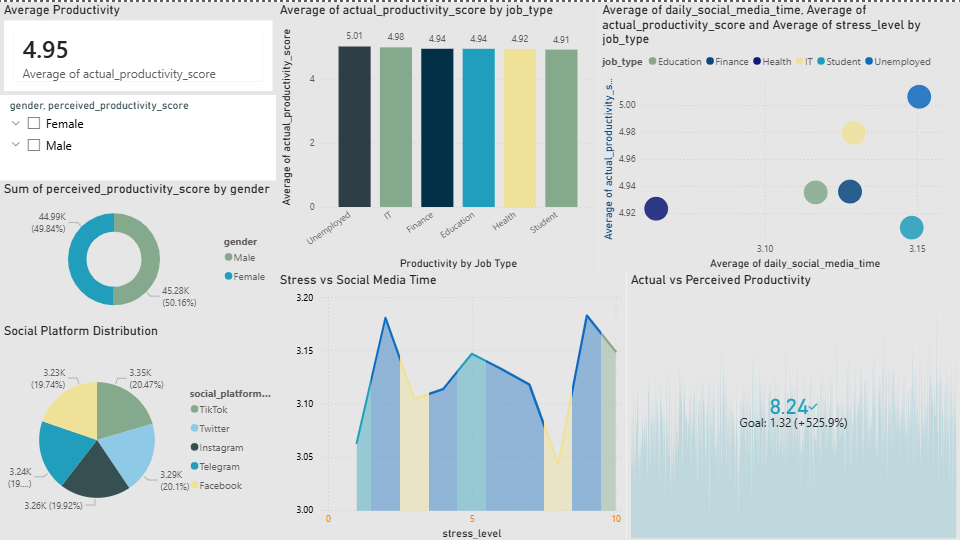

The page's visual inventory and layout, read from the dashboard file:
{"tool":"powerbi","page":{"name":"Overview","canvas":[1280,720],"ordinal":0},"visuals":[{"type":"actionButton","box":[0,0,100,40],"z":0},{"type":"slicer","fields":{"Values":["social_media_vs_productivity.gender","social_media_vs_productivity.perceived_productivity_score"]},"box":[203.3,50,165,131.7],"z":2000},{"type":"cardVisual","title":"Average Productivity","fields":{"Data":["Avg(social_media_vs_productivity.actual_productivity_score)"]},"box":[0,50,203.3,131.7],"z":3000},{"type":"clusteredColumnChart","fields":{"Y":["Avg(social_media_vs_productivity.actual_productivity_score)"],"Category":["social_media_vs_productivity.job_type"]},"box":[368.5,39.7,417.6,283.5],"z":4000},{"type":"pieChart","title":"Social Platform Distribution","fields":{"Category":["social_media_vs_productivity.social_platform_preference"],"Y":["CountNonNull(social_media_vs_productivity.social_platform_preference)"]},"box":[0,450,367.5,270],"z":5000},{"type":"lineChart","title":"Stress vs Social Media Time","fields":{"Y":["Avg(social_media_vs_productivity.daily_social_media_time)"],"Category":["social_media_vs_productivity.stress_level"]},"box":[367.5,360,467.5,360],"z":6000},{"type":"scatterChart","fields":{"X":["Avg(social_media_vs_productivity.daily_social_media_time)"],"Y":["Avg(social_media_vs_productivity.actual_productivity_score)"],"Size":["Avg(social_media_vs_productivity.stress_level)"],"Series":["social_media_vs_productivity.job_type"]},"box":[797.5,39.7,481.9,319.4],"z":7000},{"type":"kpi","title":"Actual vs Perceived Productivity","fields":{"TrendLine":["social_media_vs_productivity.perceived_productivity_score"],"Indicator":["Avg(social_media_vs_productivity.actual_productivity_score)"],"Goal":["Sum(social_media_vs_productivity.daily_social_media_time)"]},"box":[835,387.5,445,332.5],"z":8000},{"type":"donutChart","fields":{"Category":["social_media_vs_productivity.gender"],"Y":["Sum(social_media_vs_productivity.perceived_productivity_score)"]},"box":[0,238.3,368.3,190],"z":9000}]}

Visuals, with their boxes in screenshot pixels (x1, y1, x2, y2), scaled from the page's 1280x720 canvas onto the 960x540 screenshot:
actionButton: (left=0, top=0, right=75, bottom=30)
slicer - social_media_vs_productivity.gender x social_media_vs_productivity.perceived_productivity_score: (left=152, top=38, right=276, bottom=136)
"Average Productivity" cardVisual: (left=0, top=38, right=152, bottom=136)
clusteredColumnChart - Avg(social_media_vs_productivity.actual_productivity_score) x social_media_vs_productivity.job_type: (left=276, top=30, right=590, bottom=242)
"Social Platform Distribution" pieChart: (left=0, top=338, right=276, bottom=539)
"Stress vs Social Media Time" lineChart: (left=276, top=270, right=626, bottom=539)
scatterChart - Avg(social_media_vs_productivity.daily_social_media_time) x Avg(social_media_vs_productivity.actual_productivity_score): (left=598, top=30, right=959, bottom=269)
"Actual vs Perceived Productivity" kpi: (left=626, top=291, right=959, bottom=539)
donutChart - social_media_vs_productivity.gender x Sum(social_media_vs_productivity.perceived_productivity_score): (left=0, top=179, right=276, bottom=321)
